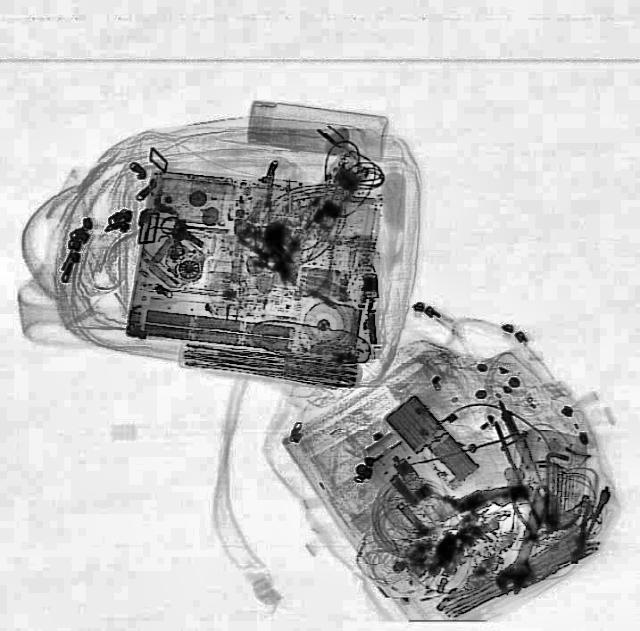Wrench: (492, 479, 560, 600)
